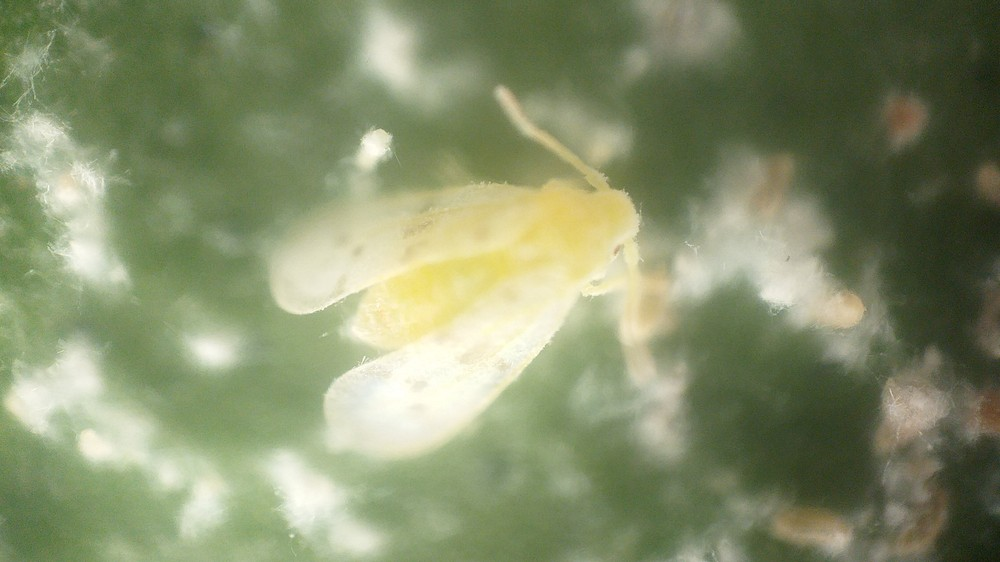Mosca Blanca: (256, 81, 677, 481)
